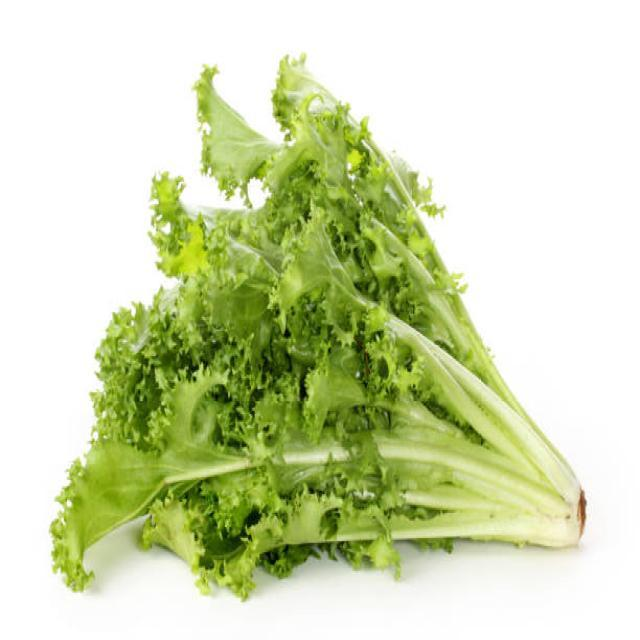Lettuce-Ready-to-Harvest: (51, 59, 585, 597)
